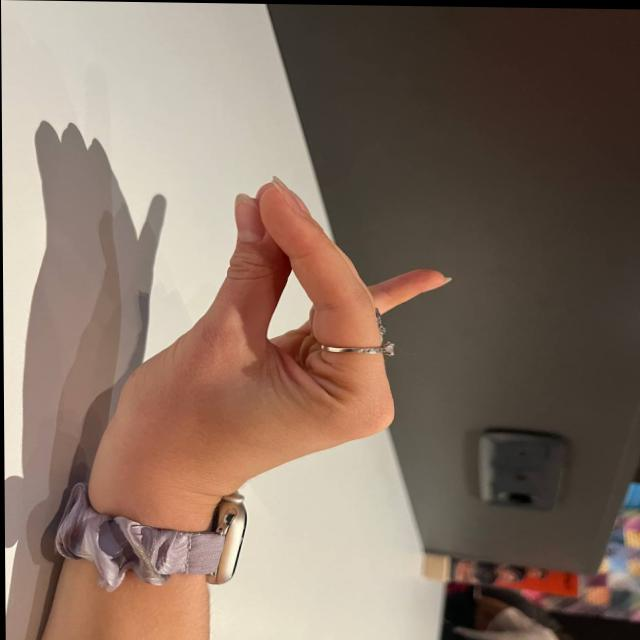iu: (90, 153, 464, 505)
